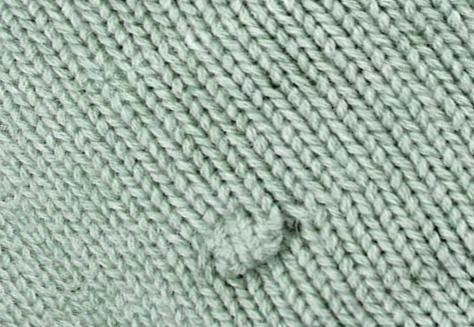knot: (201, 207, 298, 285)
